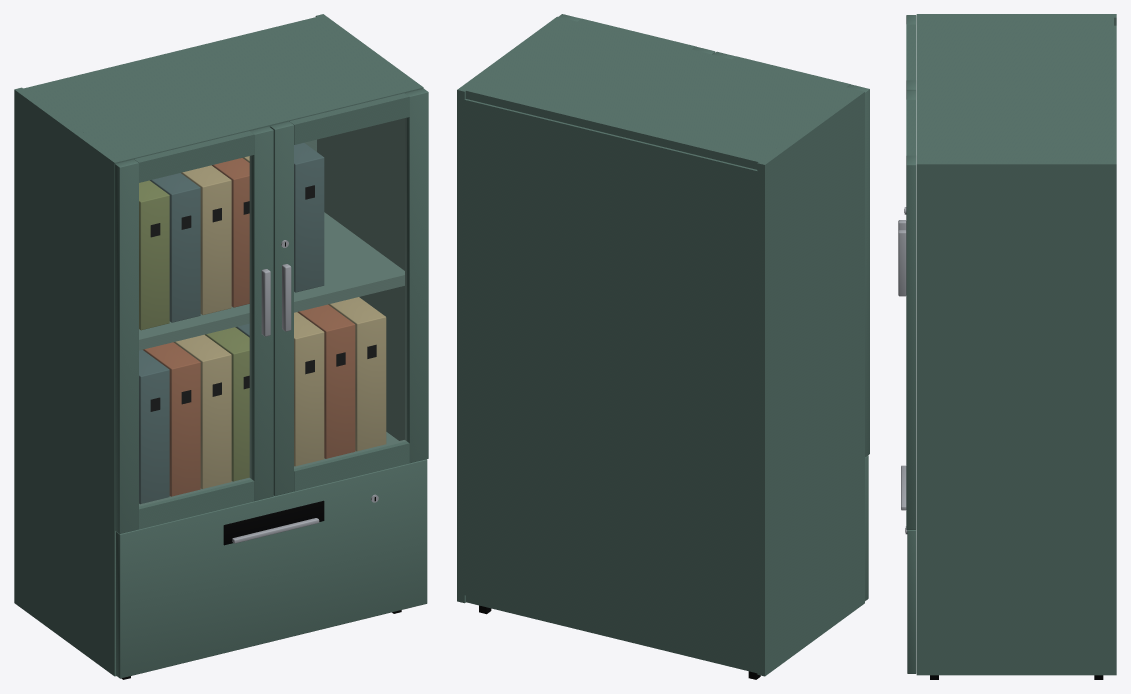
File: registry_cabinet.gltf
3 views of the same model, side by side, from view 1: azimuth 30°, elevation 25°; view 2: azimuth 150°, elevation 25°; view 3: azimuth 270°, elevation 25° (orthographic).
Visible parts, largest first — view 1: Anthracite steel carcass - Powder-coated steel, anthracite, Suspension-file drawer (closed), Left lockable glass door, hinged, Right lockable glass door, hinged, Lever-arch files (plain, no labels) - File, grey board, Lever-arch files (plain, no labels) - File, blue board, Lever-arch files (plain, no labels) - File, red board, Lever-arch files (plain, no labels) - File, green board, Adjustable steel shelf - Powder-coated steel, anthracite, Lever-arch files (plain, no labels) - Black plastic / rubber; view 2: Anthracite steel carcass - Powder-coated steel, anthracite, Left lockable glass door, hinged, Right lockable glass door, hinged; view 3: Anthracite steel carcass - Powder-coated steel, anthracite, Right lockable glass door, hinged, Suspension-file drawer (closed), Left lockable glass door, hinged.
Boxes of the visible parts, x1,y1,x2,y2 form: Anthracite steel carcass - Powder-coated steel, anthracite: [14, 14, 423, 676]; Suspension-file drawer (closed): [116, 459, 427, 678]; Left lockable glass door, hinged: [115, 126, 273, 533]; Right lockable glass door, hinged: [270, 88, 428, 495]; Lever-arch files (plain, no labels) - File, grey board: [173, 156, 386, 488]; Lever-arch files (plain, no labels) - File, blue board: [139, 143, 324, 504]; Lever-arch files (plain, no labels) - File, red board: [143, 158, 355, 496]; Lever-arch files (plain, no labels) - File, green board: [139, 180, 249, 481]; Adjustable steel shelf - Powder-coated steel, anthracite: [139, 212, 404, 350]; Lever-arch files (plain, no labels) - Black plastic / rubber: [150, 185, 376, 411]; Anthracite steel carcass - Powder-coated steel, anthracite: [457, 16, 864, 676]; Left lockable glass door, hinged: [713, 51, 869, 457]; Right lockable glass door, hinged: [558, 14, 715, 54]; Anthracite steel carcass - Powder-coated steel, anthracite: [916, 14, 1116, 675]; Right lockable glass door, hinged: [898, 90, 916, 529]; Suspension-file drawer (closed): [901, 465, 916, 673]; Left lockable glass door, hinged: [898, 15, 916, 230].
Size of the model in its own units: 0.8 by 1.3 by 0.491.
Materials: 8 (7 with a texture image).
